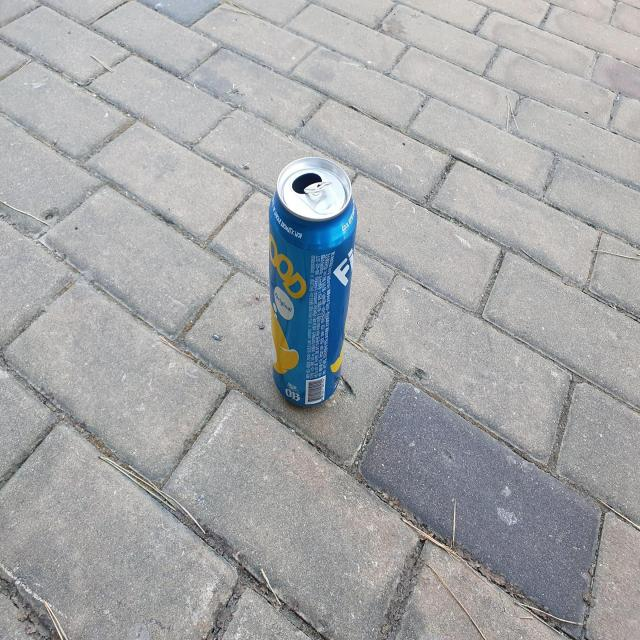can: (269, 156, 357, 406)
